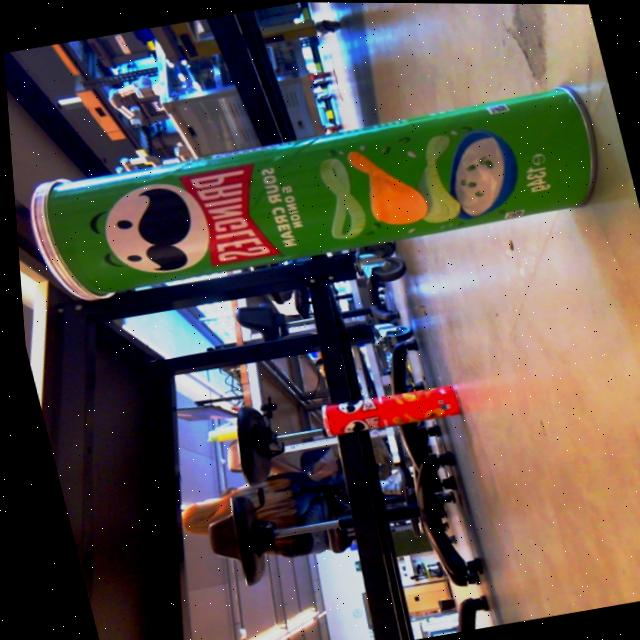greenpringles: (3, 43, 638, 331)
redpringles: (289, 363, 475, 450)
